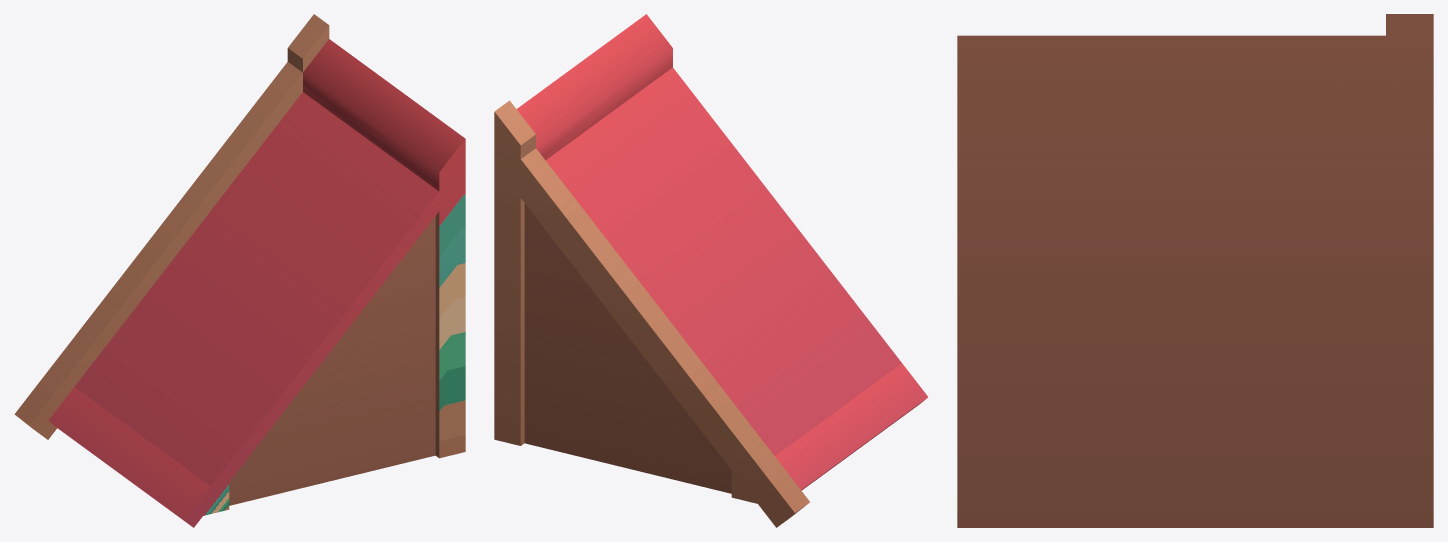
File: roof-high-left.fbx
The picture shows the model from 3 angles, left to right: view 1: azimuth 30°, elevation 25°; view 2: azimuth 150°, elevation 25°; view 3: azimuth 270°, elevation 25°; orthographic projection. The views are drawn at different scales.
Visible parts, largest first — view 1: roof-high-left; view 2: roof-high-left; view 3: roof-high-left.
Boxes of the visible parts, x1,y1,x2,y2 form: roof-high-left: (14,14,465,527); roof-high-left: (494,14,927,527); roof-high-left: (957,14,1433,527).
Bounding box in the file's own units: 114 × 126 × 100.
1 material, 1 textured.
